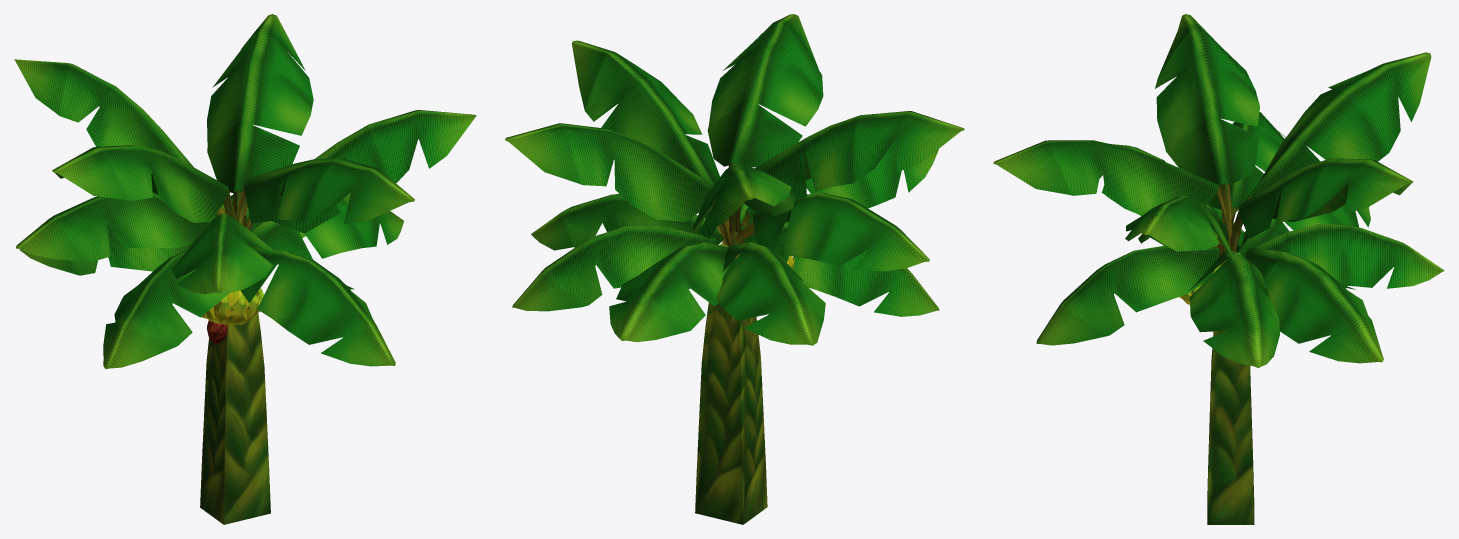
Rendered from Banana_Tree.fbx.
3 views of the same model, side by side, from view 1: azimuth 30°, elevation 25°; view 2: azimuth 150°, elevation 25°; view 3: azimuth 270°, elevation 25° (orthographic). The views are drawn at different scales.
Parts seen in each view (by area): view 1: pPlane10, pCube49, pPlane6, pPlane15, pPlane16, pPlane14, pPlane9, pPlane8, pPlane5, pPlane7, pPlane13, pPlane11 (+1 smaller); view 2: pCube49, pPlane15, pPlane10, pPlane5, pPlane14, pPlane16, pPlane12, pPlane2, pPlane11, pPlane8, pPlane13, pPlane9 (+1 smaller); view 3: pPlane14, pPlane9, pPlane15, pPlane6, pPlane12, pCube49, pPlane10, pPlane13, pPlane2, pPlane5, pPlane16, pPlane11.
Part boxes in pixels (x1=…): pPlane10: x1=207, y1=14, x2=313, y2=192; pCube49: x1=200, y1=306, x2=270, y2=524; pPlane6: x1=240, y1=246, x2=395, y2=366; pPlane15: x1=244, y1=158, x2=414, y2=223; pPlane16: x1=16, y1=194, x2=208, y2=261; pPlane14: x1=52, y1=145, x2=227, y2=222; pPlane9: x1=14, y1=59, x2=193, y2=195; pPlane8: x1=103, y1=250, x2=229, y2=369; pPlane5: x1=271, y1=110, x2=476, y2=233; pPlane7: x1=171, y1=213, x2=273, y2=294; pPlane13: x1=246, y1=199, x2=403, y2=264; pPlane11: x1=20, y1=223, x2=191, y2=275; pCube49: x1=695, y1=243, x2=767, y2=524; pPlane15: x1=707, y1=14, x2=823, y2=167; pPlane10: x1=505, y1=123, x2=713, y2=221; pPlane5: x1=572, y1=40, x2=719, y2=184; pPlane14: x1=755, y1=111, x2=964, y2=201; pPlane16: x1=753, y1=193, x2=929, y2=271; pPlane12: x1=512, y1=226, x2=715, y2=311; pPlane2: x1=609, y1=242, x2=734, y2=342; pPlane11: x1=716, y1=241, x2=825, y2=345; pPlane8: x1=741, y1=221, x2=939, y2=316; pPlane13: x1=531, y1=193, x2=724, y2=250; pPlane9: x1=692, y1=164, x2=795, y2=238; pPlane14: x1=1155, y1=14, x2=1259, y2=185; pPlane9: x1=1249, y1=52, x2=1431, y2=197; pPlane15: x1=993, y1=140, x2=1219, y2=215; pPlane6: x1=1036, y1=245, x2=1219, y2=345; pPlane12: x1=1245, y1=247, x2=1383, y2=363; pCube49: x1=1207, y1=259, x2=1254, y2=524; pPlane10: x1=1238, y1=158, x2=1413, y2=238; pPlane13: x1=1189, y1=250, x2=1279, y2=367; pPlane2: x1=1241, y1=224, x2=1444, y2=288; pPlane5: x1=1125, y1=196, x2=1235, y2=261; pPlane16: x1=1209, y1=112, x2=1285, y2=209; pPlane11: x1=1236, y1=204, x2=1370, y2=254.
Bounding box in the file's own units: 15.77 × 15.4 × 15.42.
Materials: 4 (4 with a texture image).
